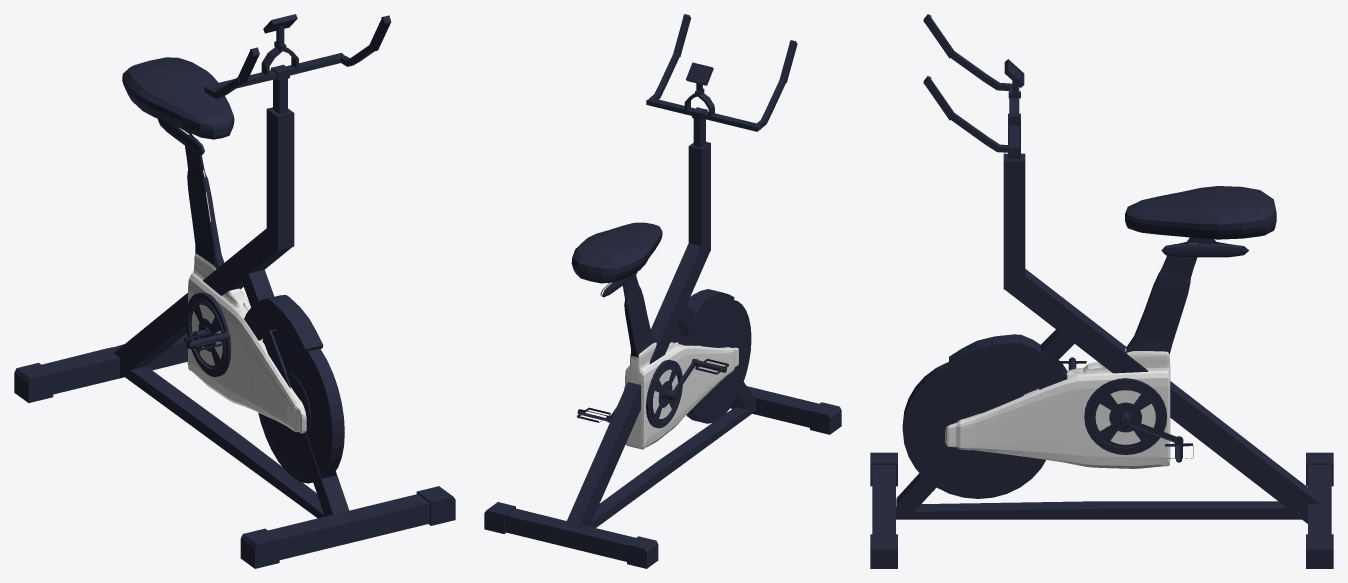
Rendered from Bike_Mod.fbx.
3 renders of one model, left to right at view 1: azimuth 30°, elevation 25°; view 2: azimuth 150°, elevation 25°; view 3: azimuth 270°, elevation 25°, orthographic. The views are drawn at different scales.
Visible parts, largest first — view 1: Ergobike; view 2: Ergobike; view 3: Ergobike.
Boxes of the visible parts, x1,y1,x2,y2 form: Ergobike: (14,14,455,568); Ergobike: (484,14,841,568); Ergobike: (870,14,1333,568).
Bounding box in the file's own units: 0.6305 × 1.31 × 1.48.
